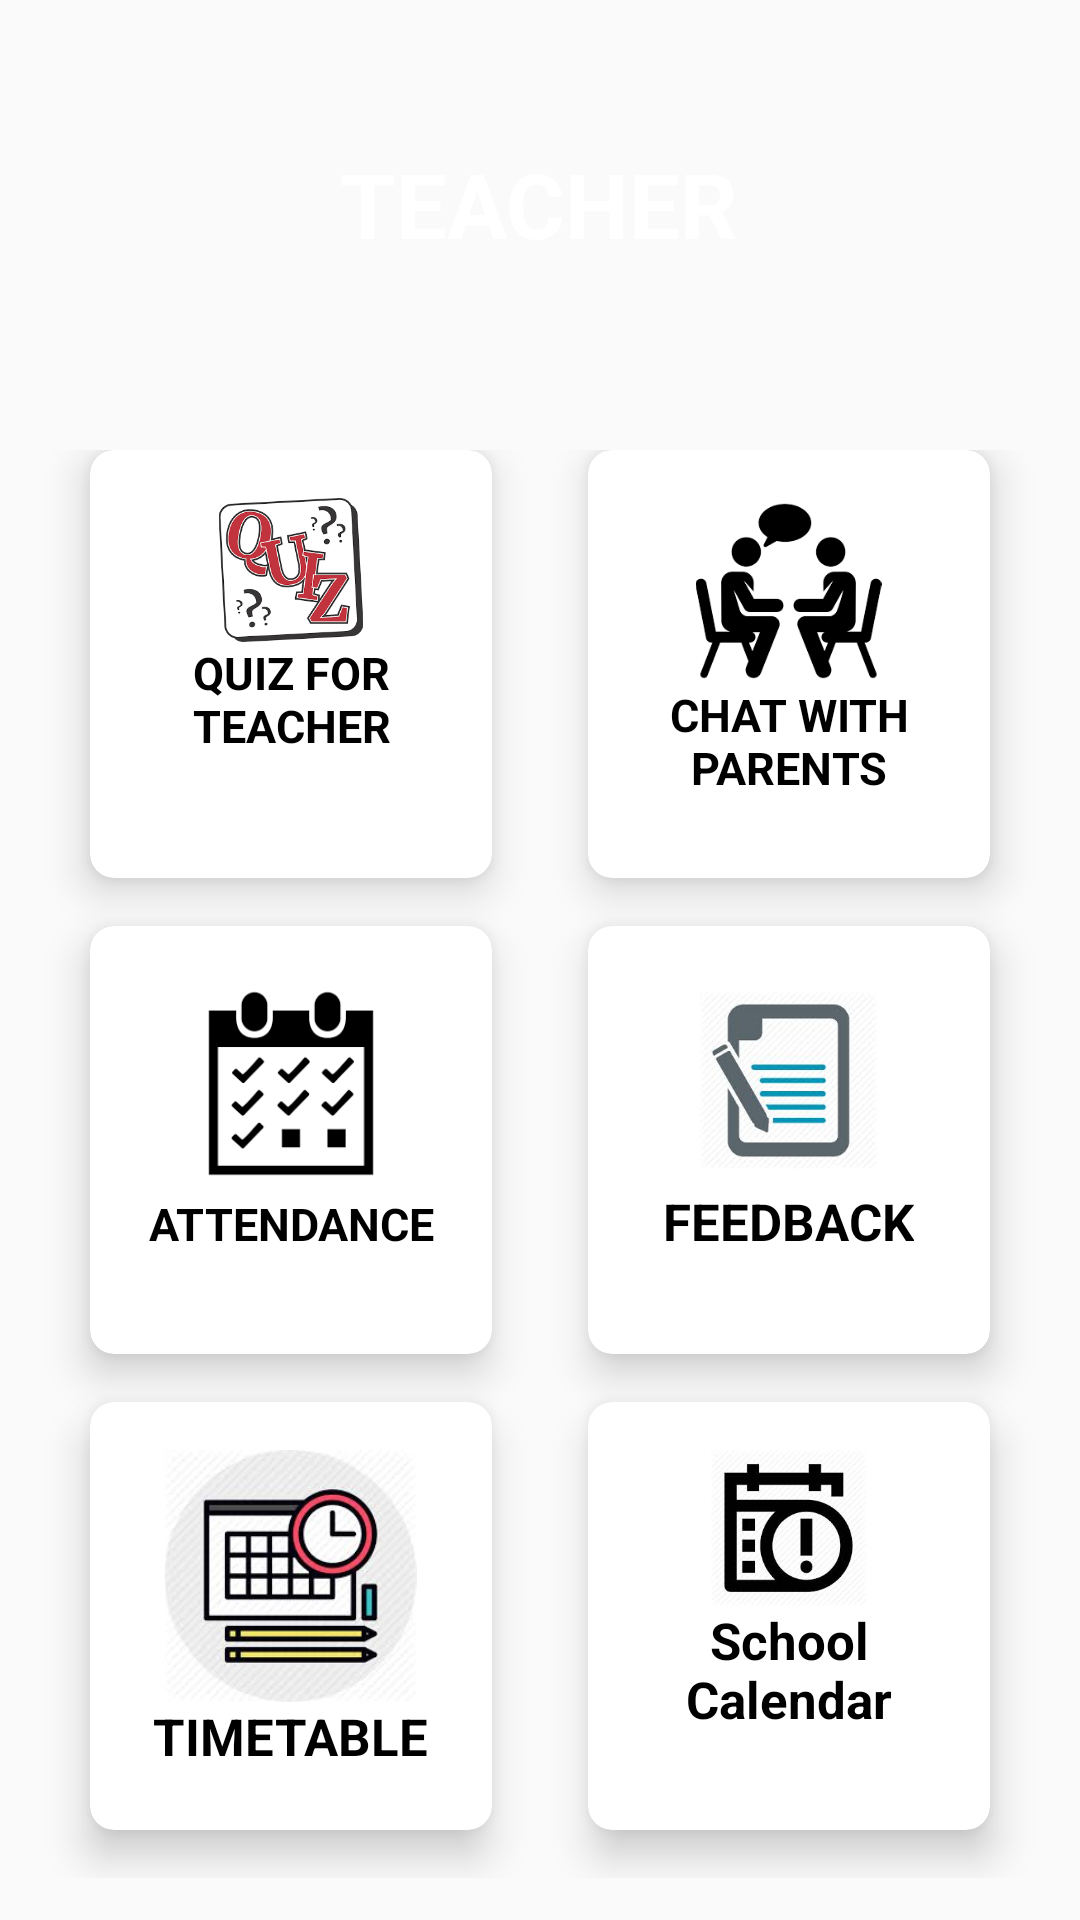

Named icons in this screenshot (1080*1920) and their centers, [x,y]:
remainder: [788,1527]
